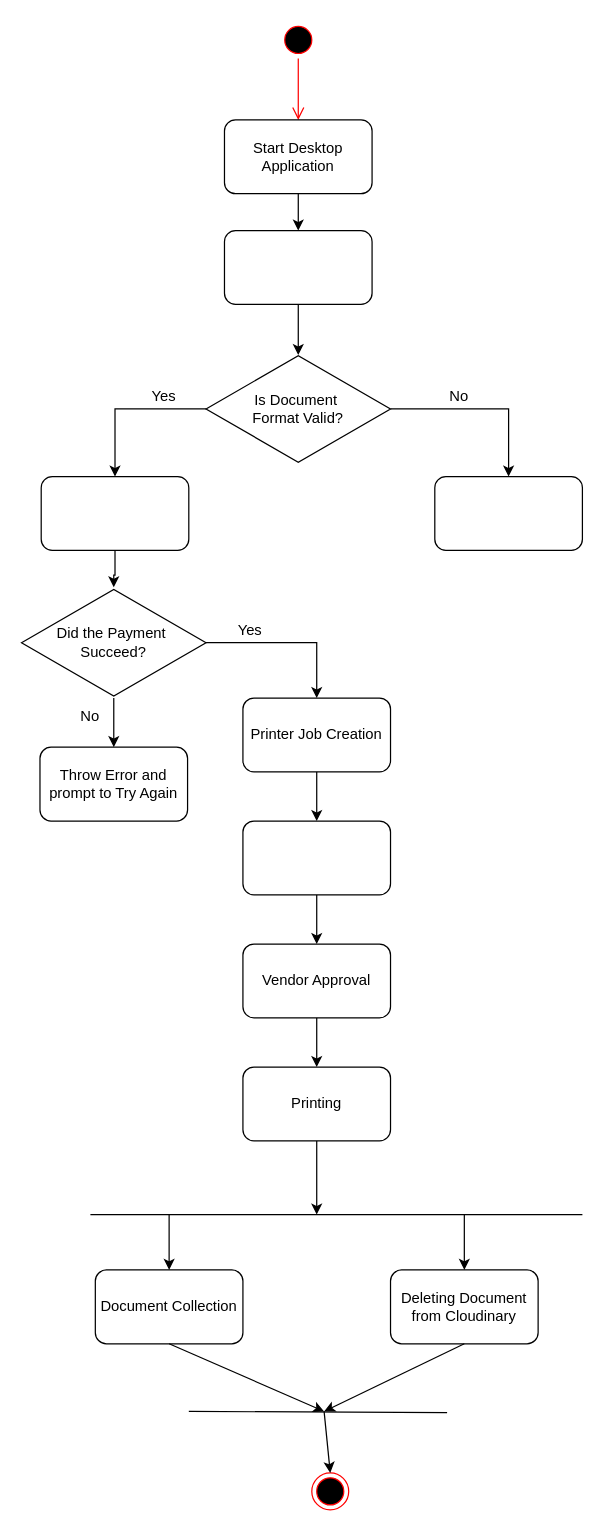
Image size: 605x1531. Some labels were removed from this diagram. Here are the shapes that lost their labels. From the top down, the centre of each, then its label:
At [297,266]: "Document Upload".
At [114,512]: "Payment Processing : Select Printer Preferences".
At [508,512]: "Throw Error and prompt to upload a valid file format".
At [316,857]: "The Job is queues in Cloudinary for Vendor approval".
